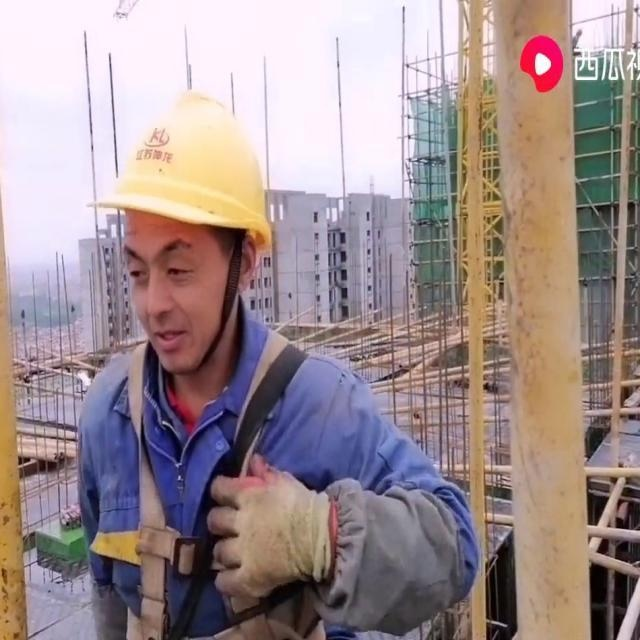Arnes_seguridad: (107, 316, 310, 639)
